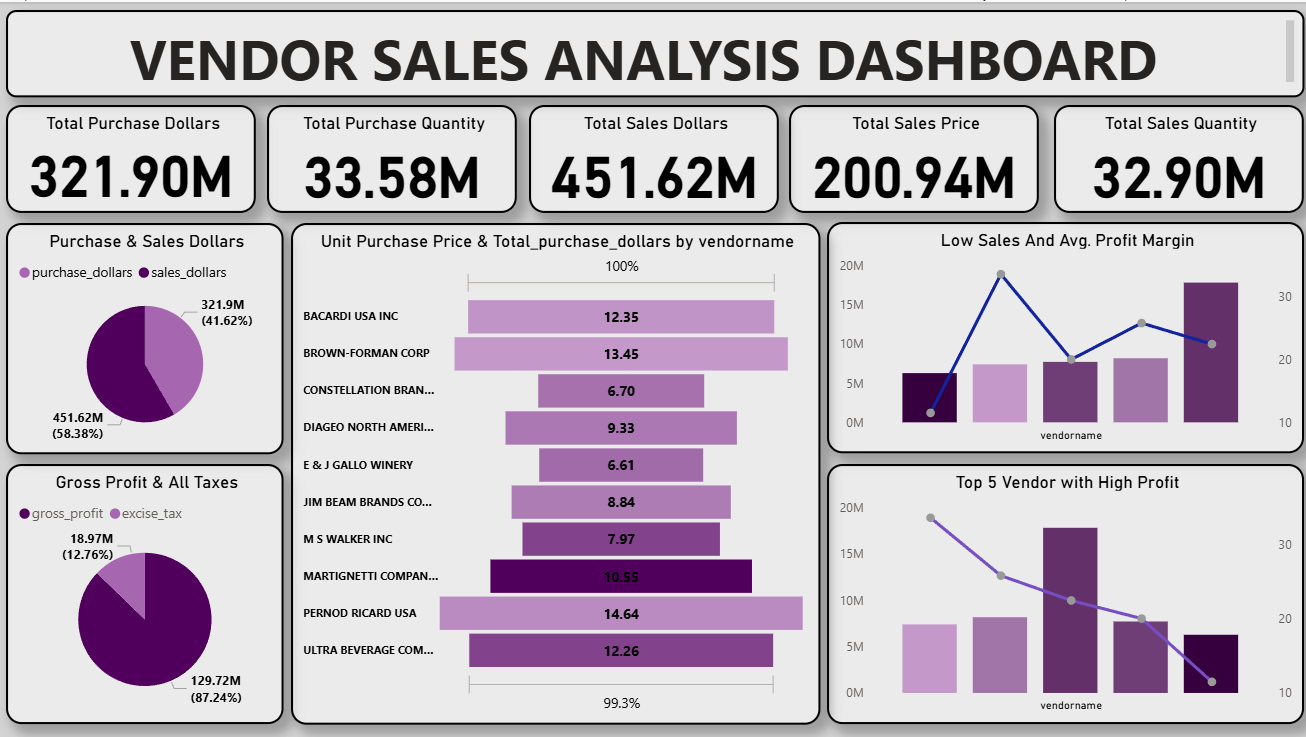

This screenshot's page, from the dashboard's own definition file:
{"tool":"powerbi","page":{"name":"Dashboard","canvas":[1280,720],"ordinal":0},"visuals":[{"type":"textbox","box":[9.3,8.3,1263.5,84.6],"z":0},{"type":"card","title":"Total Purchase Dollars","fields":{"Values":["Sum(vendor_summary_table.total_purchase_dollars)"]},"box":[9.3,100,243.4,105.2],"z":1000},{"type":"card","title":"Total Sales Quantity","fields":{"Values":["Sum(vendor_summary_table.total_sales_quantity)"]},"box":[1029.4,100,243.4,105.2],"z":2000},{"type":"card","title":"Total Purchase Quantity","fields":{"Values":["Sum(vendor_summary_table.total_purchase_quantity)"]},"box":[264,100,243.4,105.2],"z":3000},{"type":"card","title":"Total Sales Price","fields":{"Values":["Sum(vendor_summary_table.total_sales_price)"]},"box":[771.5,100,243.4,105.2],"z":4000},{"type":"card","title":"Total Sales Dollars","fields":{"Values":["Sum(vendor_summary_table.total_sales_dollars)"]},"box":[518.8,100,243.4,105.2],"z":5000},{"type":"lineStackedColumnComboChart","title":"Low Sales And Avg. Profit Margin","fields":{"Category":["vendor_summary_table.vendorname"],"Y":["Sum(vendor_summary_table.gross_profit)"],"Y2":["Avg(vendor_summary_table.profit_margin)"]},"box":[808.6,213.5,464.1,224.9],"z":6000},{"type":"lineClusteredColumnComboChart","title":"Top 5 Vendor with High Profit","fields":{"Category":["vendor_summary_table.vendorname"],"Y":["Sum(vendor_summary_table.gross_profit)"],"Y2":["Avg(vendor_summary_table.profit_margin)"]},"box":[808.6,449.7,464.1,252.7],"z":7000},{"type":"pieChart","title":"Purchase & Sales Dollars","fields":{"Y":["Sum(vendor_summary_table.total_purchase_dollars)","Sum(vendor_summary_table.total_sales_dollars)"]},"box":[9.3,214.5,270.2,224.9],"z":8000},{"type":"pieChart","title":"Gross Profit & All Taxes","fields":{"Y":["Sum(vendor_summary_table.gross_profit)","Sum(vendor_summary_table.total_excise_tax)"]},"box":[9.3,449.7,270.2,252.7],"z":9000},{"type":"funnel","title":"Unit Purchase Price & Total_purchase_dollars by vendorname","fields":{"Category":["vendor_summary_table.vendorname"],"Y":["vendor_summary_table.Unit Purchase Price"]},"box":[286.7,214.5,514.7,487.9],"z":10000}]}

Visuals, with their boxes in screenshot pixels (x1, y1, x2, y2), scaled from the page's 1280x720 canvas onto the 1306x737 screenshot:
textbox: x1=9, y1=8, x2=1299, y2=95
"Total Purchase Dollars" card: x1=9, y1=102, x2=258, y2=210
"Total Sales Quantity" card: x1=1050, y1=102, x2=1299, y2=210
"Total Purchase Quantity" card: x1=269, y1=102, x2=518, y2=210
"Total Sales Price" card: x1=787, y1=102, x2=1036, y2=210
"Total Sales Dollars" card: x1=529, y1=102, x2=778, y2=210
"Low Sales And Avg. Profit Margin" lineStackedColumnComboChart: x1=825, y1=219, x2=1299, y2=449
"Top 5 Vendor with High Profit" lineClusteredColumnComboChart: x1=825, y1=460, x2=1299, y2=719
"Purchase & Sales Dollars" pieChart: x1=9, y1=220, x2=285, y2=450
"Gross Profit & All Taxes" pieChart: x1=9, y1=460, x2=285, y2=719
"Unit Purchase Price & Total_purchase_dollars by vendorname" funnel: x1=293, y1=220, x2=818, y2=719
